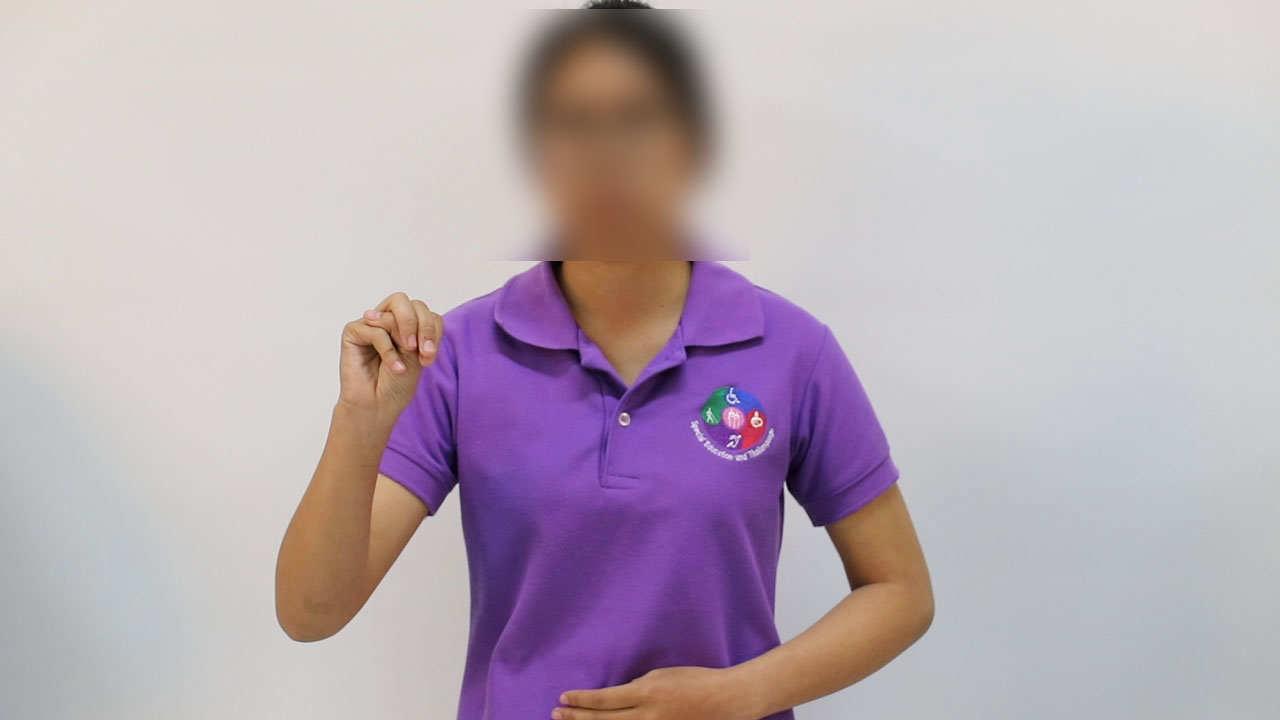mor: (325, 265, 451, 437)
